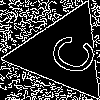C: (37, 28, 100, 79)
